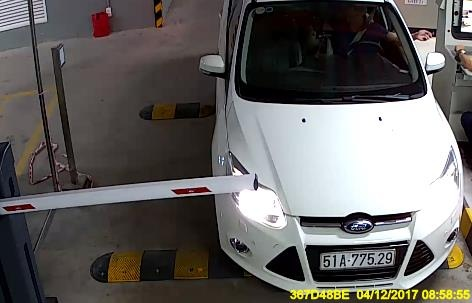plate: (315, 246, 398, 273)
